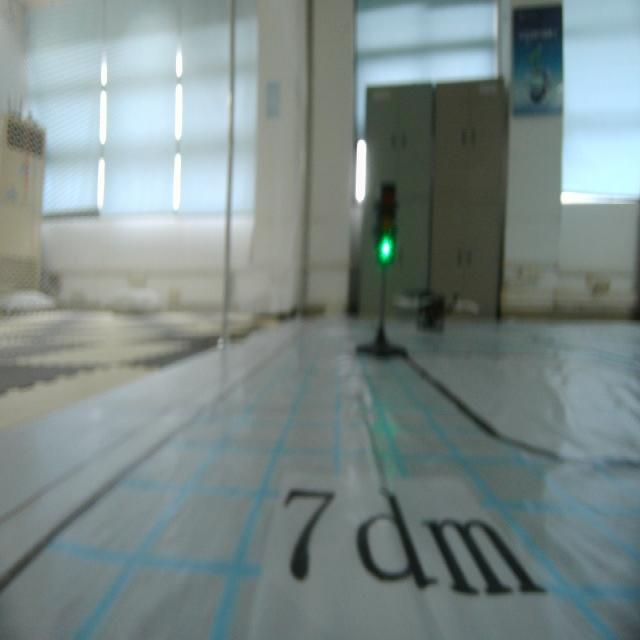green: (377, 180, 397, 261)
